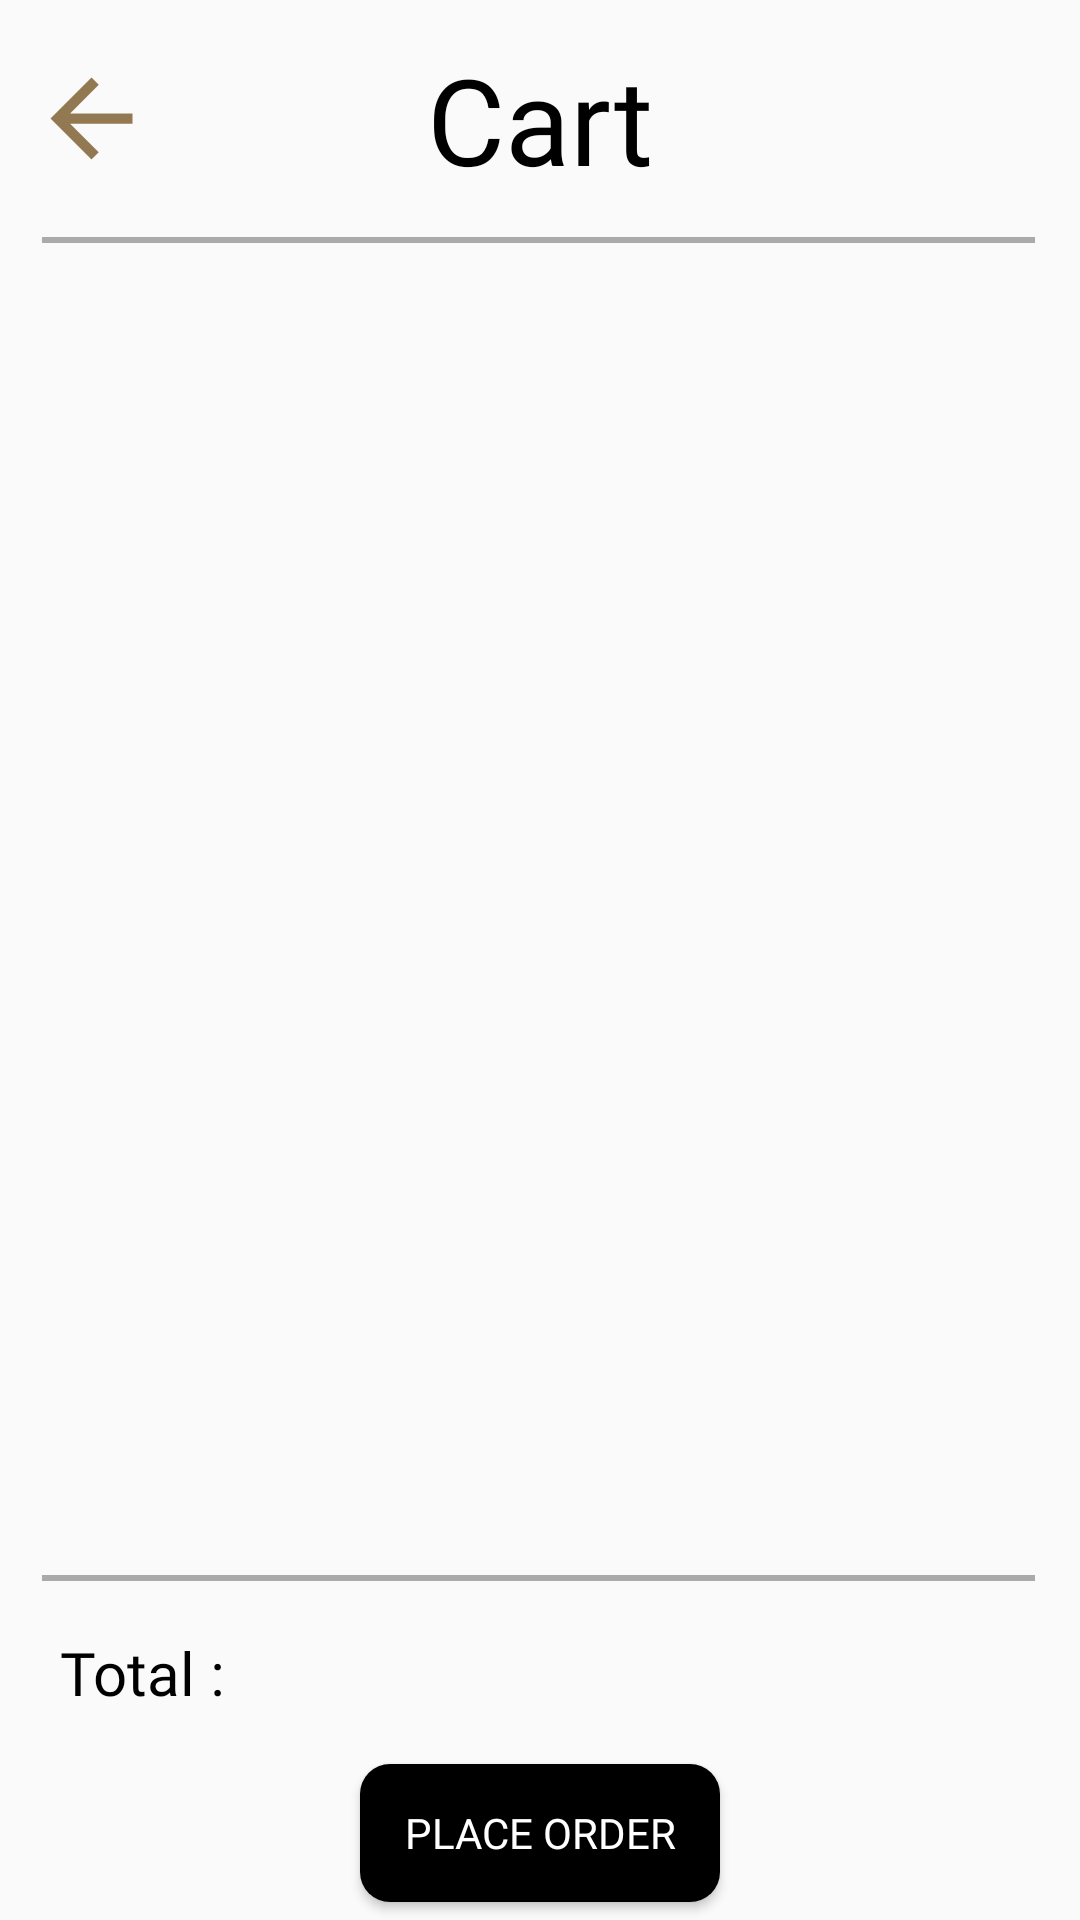

Named icons in this screenshot (1080w x 1920h) and their centers, point (x, y):
back: point (91, 118)
